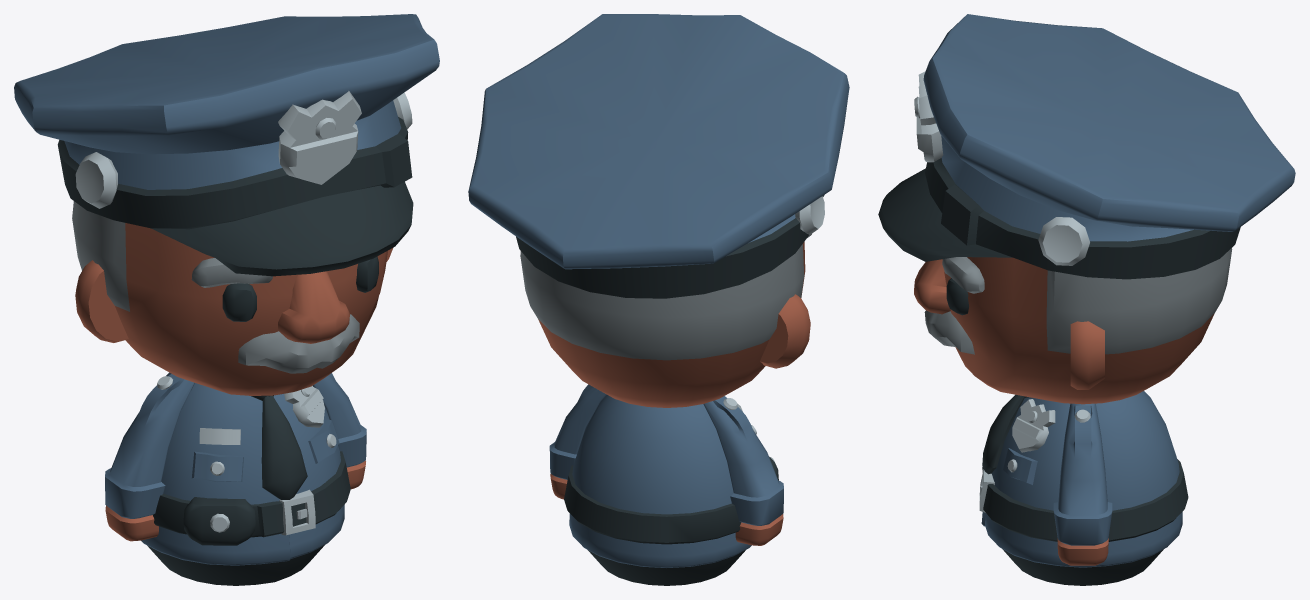
Rendered from character_policeman.gltf.
3 views of the same model, side by side, from view 1: azimuth 30°, elevation 25°; view 2: azimuth 150°, elevation 25°; view 3: azimuth 270°, elevation 25° (orthographic). The views are drawn at different scales.
Parts seen in each view (by area): view 1: character_policeman_head, character_policeman_body, character_policeman_armRight, character_policeman_armLeft; view 2: character_policeman_head, character_policeman_body, character_policeman_armRight, character_policeman_armLeft; view 3: character_policeman_head, character_policeman_body, character_policeman_armLeft.
Part boxes in pixels (<box>): character_policeman_head: <box>14,14,439,395</box>; character_policeman_body: <box>141,372,350,585</box>; character_policeman_armRight: <box>105,374,194,541</box>; character_policeman_armLeft: <box>313,373,366,489</box>; character_policeman_head: <box>468,14,849,407</box>; character_policeman_body: <box>564,395,778,585</box>; character_policeman_armRight: <box>703,396,783,545</box>; character_policeman_armLeft: <box>549,384,606,499</box>; character_policeman_head: <box>878,14,1295,404</box>; character_policeman_body: <box>979,391,1188,585</box>; character_policeman_armLeft: <box>1053,403,1112,565</box>.
Bounding box in the file's own units: 1.44 × 1.95 × 1.48.
